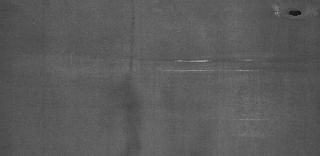punching hole: (288, 10, 304, 18)
silk spot: (124, 4, 140, 154)
